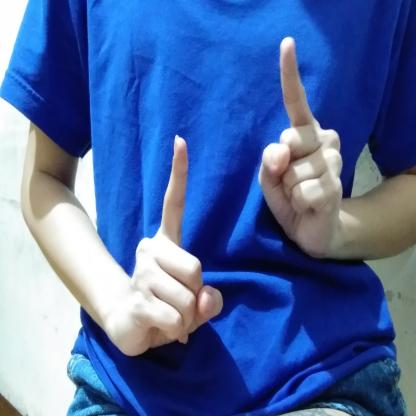morning: (124, 29, 348, 369)
